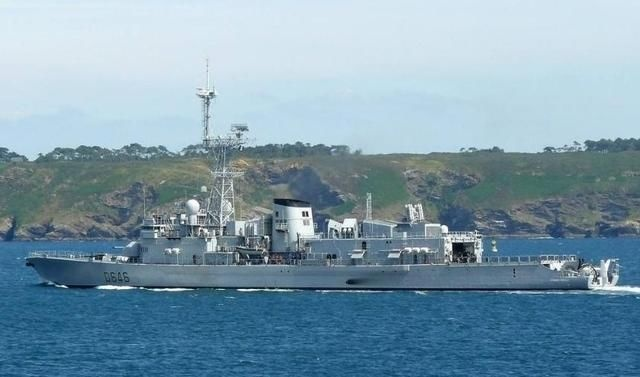warship: (20, 130, 619, 297)
